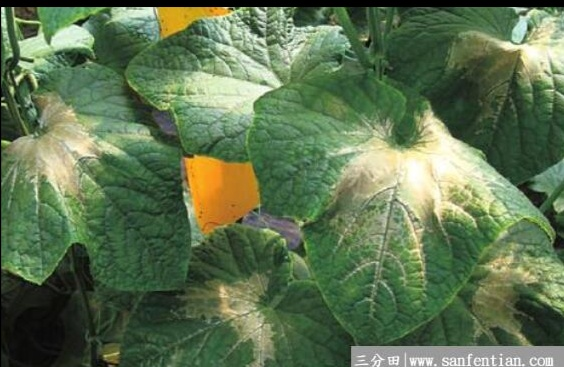cucumber_plant: (258, 66, 528, 339), (10, 51, 196, 290)
